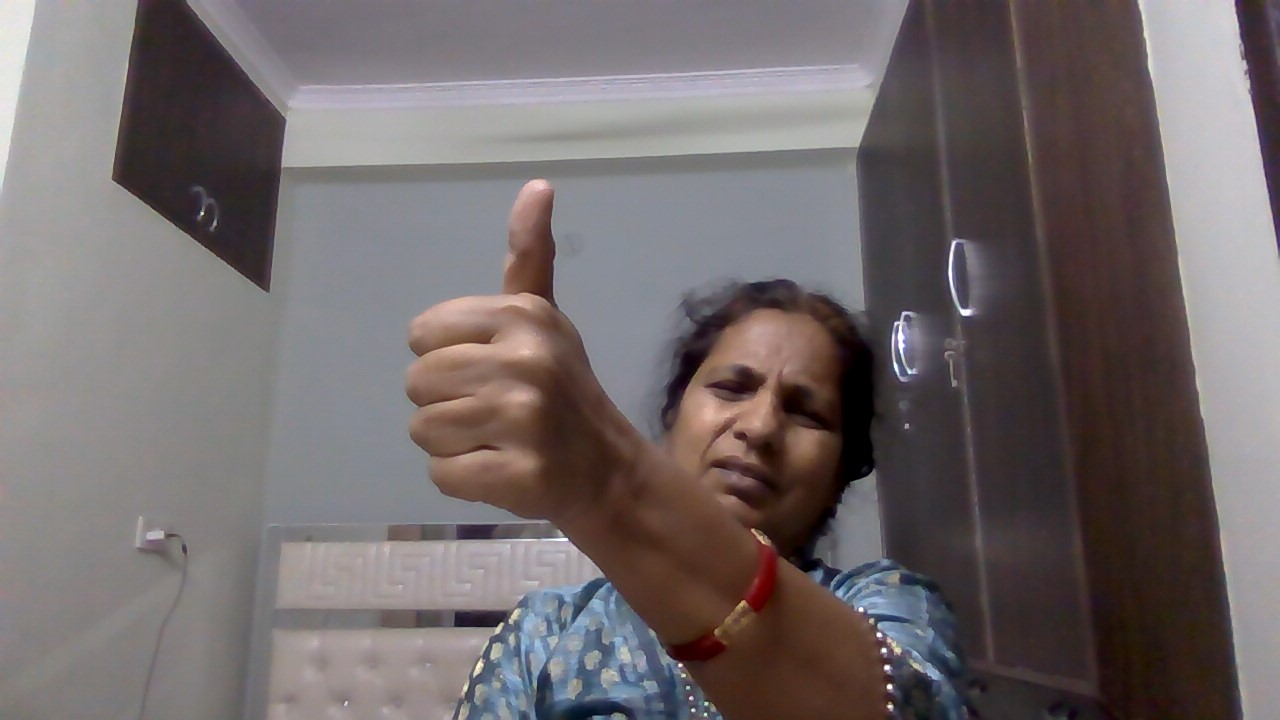Save: (395, 168, 603, 552)
